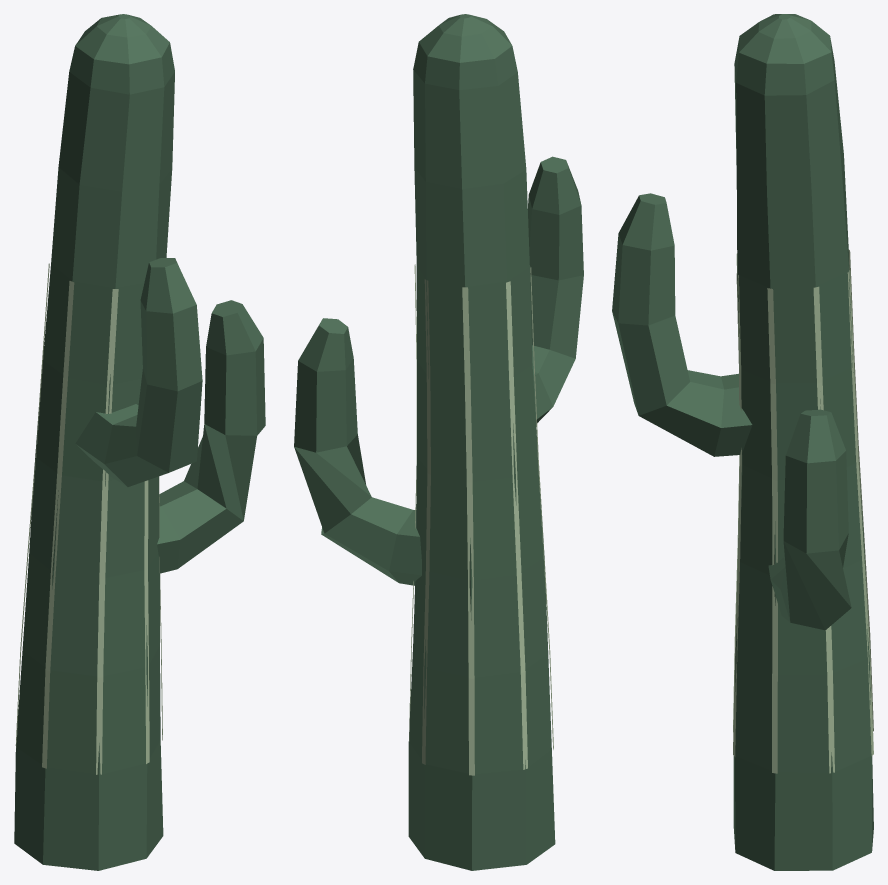
The model's file is cactus.glb.
The picture shows the model from 3 angles, left to right: view 1: azimuth 30°, elevation 25°; view 2: azimuth 150°, elevation 25°; view 3: azimuth 270°, elevation 25°; orthographic projection. The views are drawn at different scales.
Visible parts, largest first — view 1: cactus; view 2: cactus; view 3: cactus.
Boxes of the visible parts, left/top/right/bottom form: cactus: left=14, top=14, right=265, bottom=870; cactus: left=294, top=14, right=583, bottom=870; cactus: left=612, top=14, right=873, bottom=870.
Bounding box in the file's own units: 0.9086 × 3 × 0.8502.
